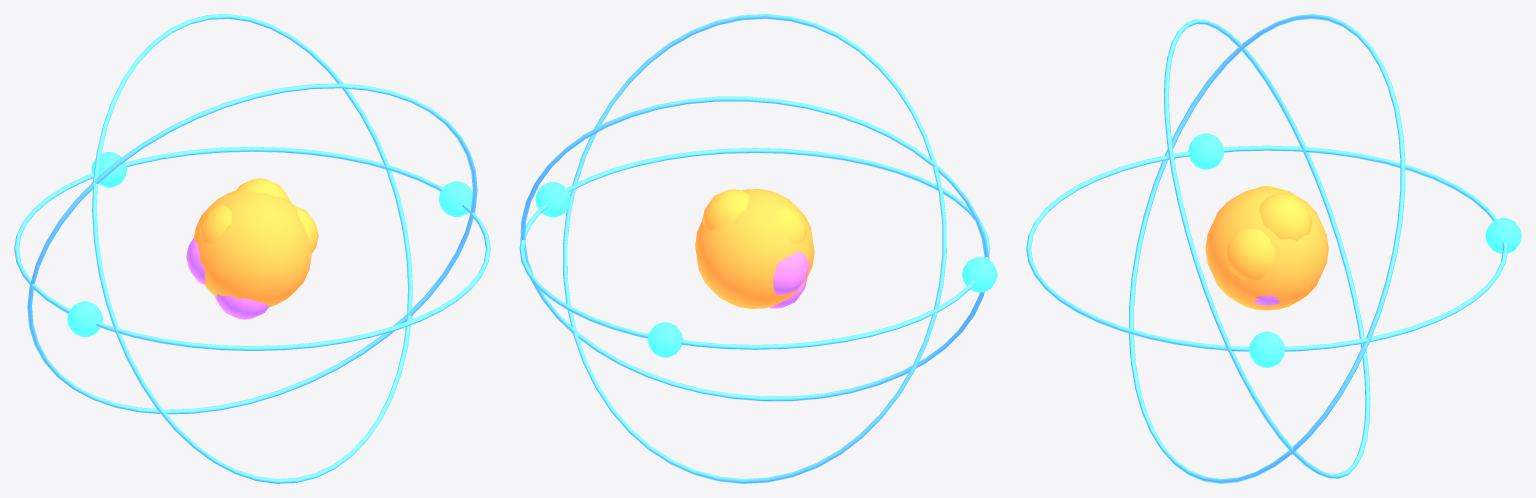
The model's file is RadioactiveAtom.glb.
3 renders of one model, left to right at view 1: azimuth 30°, elevation 25°; view 2: azimuth 150°, elevation 25°; view 3: azimuth 270°, elevation 25°, orthographic. The views are drawn at different scales.
Parts seen in each view (by area): view 1: Nucleus_Core_Glow, Electron_Orbit_2, Electron_Orbit_3, Electron_Orbit_1, Electron_3, Electron_1, Nucleus_Particle_6, Nucleus_Particle_1, Electron_2, Nucleus_Particle_5, Nucleus_Particle_8; view 2: Nucleus_Core_Glow, Electron_Orbit_3, Electron_Orbit_2, Electron_Orbit_1, Nucleus_Particle_5, Nucleus_Particle_8, Electron_2, Electron_1, Electron_3, Nucleus_Particle_1; view 3: Nucleus_Core_Glow, Electron_Orbit_2, Electron_Orbit_3, Electron_Orbit_1, Nucleus_Particle_7, Nucleus_Particle_5, Electron_1, Electron_3, Electron_2.
Boxes of the visible parts, left/top/right/bottom form: Nucleus_Core_Glow: left=194, top=190, right=311, bottom=307; Electron_Orbit_2: left=92, top=14, right=412, bottom=483; Electron_Orbit_3: left=27, top=83, right=477, bottom=414; Electron_Orbit_1: left=14, top=147, right=490, bottom=350; Electron_3: left=67, top=301, right=102, bottom=337; Electron_1: left=438, top=181, right=472, bottom=216; Nucleus_Particle_6: left=215, top=294, right=269, bottom=319; Nucleus_Particle_1: left=199, top=204, right=231, bottom=243; Electron_2: left=91, top=152, right=127, bottom=187; Nucleus_Particle_5: left=236, top=178, right=289, bottom=200; Nucleus_Particle_8: left=186, top=238, right=205, bottom=284; Nucleus_Core_Glow: left=695, top=189, right=814, bottom=308; Electron_Orbit_3: left=563, top=14, right=946, bottom=483; Electron_Orbit_2: left=520, top=96, right=989, bottom=401; Electron_Orbit_1: left=519, top=148, right=990, bottom=349; Nucleus_Particle_5: left=702, top=189, right=749, bottom=229; Nucleus_Particle_8: left=773, top=251, right=809, bottom=294; Electron_2: left=647, top=322, right=682, bottom=357; Electron_1: left=535, top=182, right=570, bottom=217; Electron_3: left=962, top=257, right=997, bottom=292; Nucleus_Particle_1: left=775, top=205, right=807, bottom=243; Nucleus_Core_Glow: left=1205, top=187, right=1328, bottom=310; Electron_Orbit_2: left=1128, top=14, right=1405, bottom=483; Electron_Orbit_3: left=1164, top=19, right=1370, bottom=478; Electron_Orbit_1: left=1026, top=145, right=1507, bottom=351; Nucleus_Particle_7: left=1226, top=228, right=1275, bottom=281; Nucleus_Particle_5: left=1259, top=193, right=1312, bottom=240; Electron_1: left=1249, top=331, right=1284, bottom=367; Electron_3: left=1188, top=133, right=1224, bottom=169; Electron_2: left=1485, top=217, right=1521, bottom=253.
Bounding box in the file's own units: 1.8 × 1.58 × 1.77.
